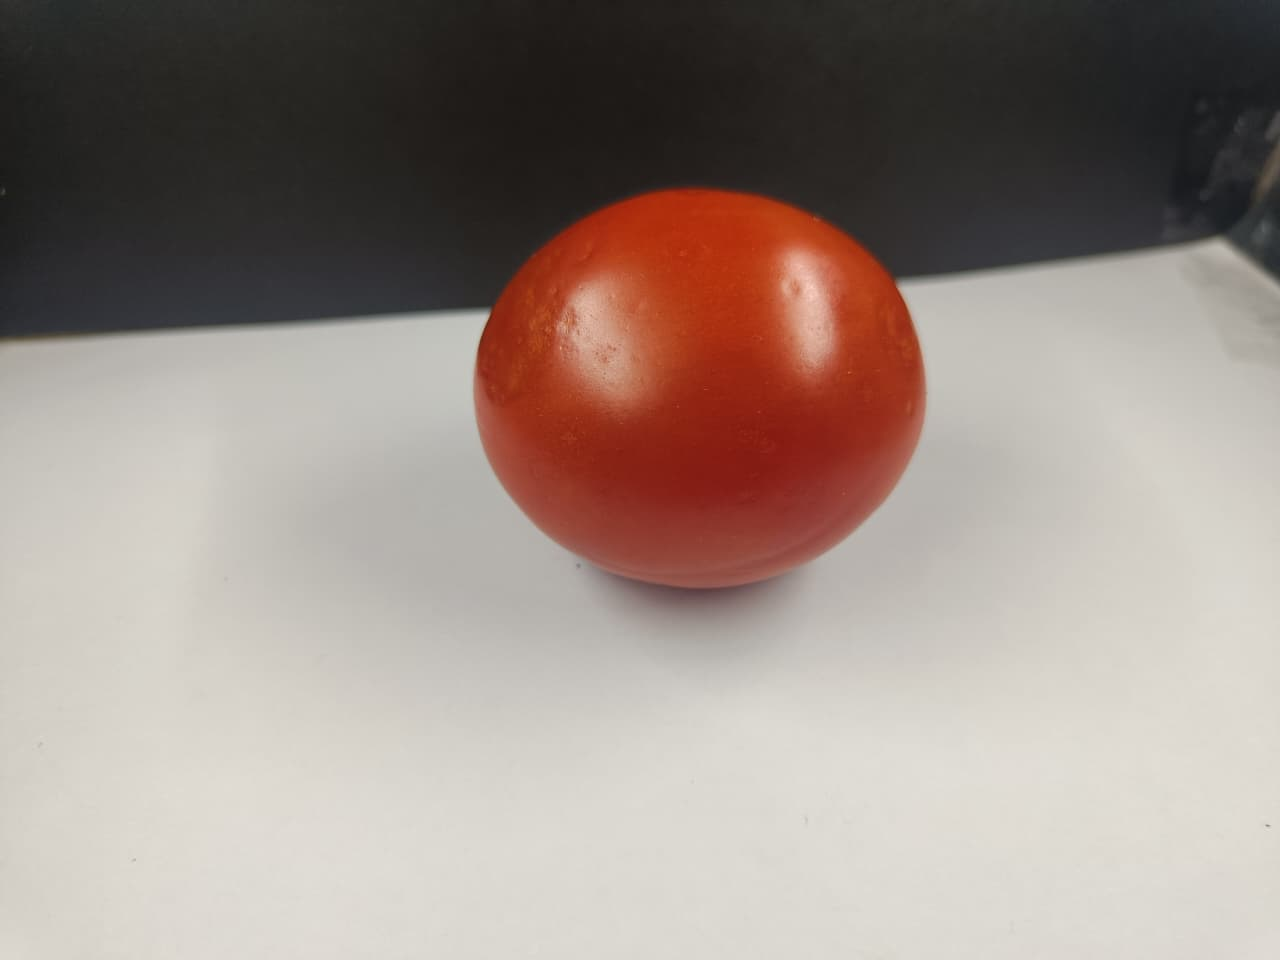ripe: (467, 191, 932, 589)
